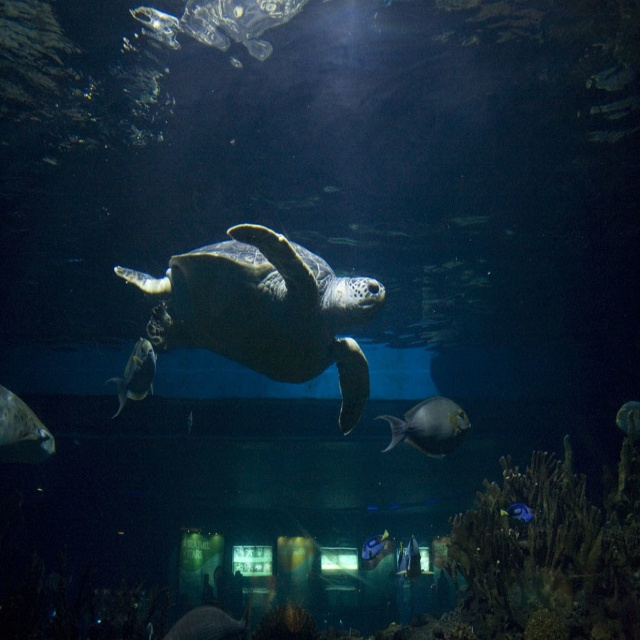Sea turtle: (114, 215, 389, 437)
